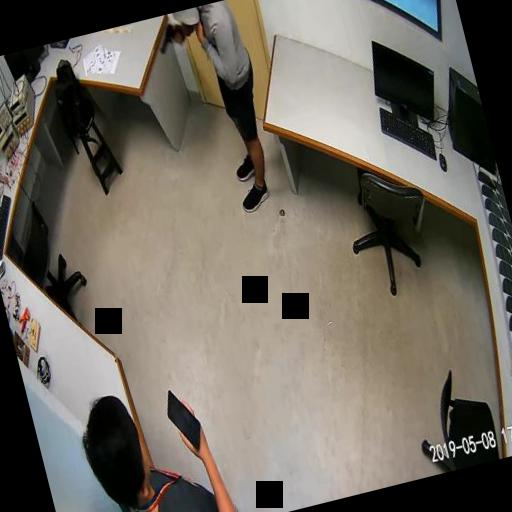Handgun: (153, 20, 185, 52)
